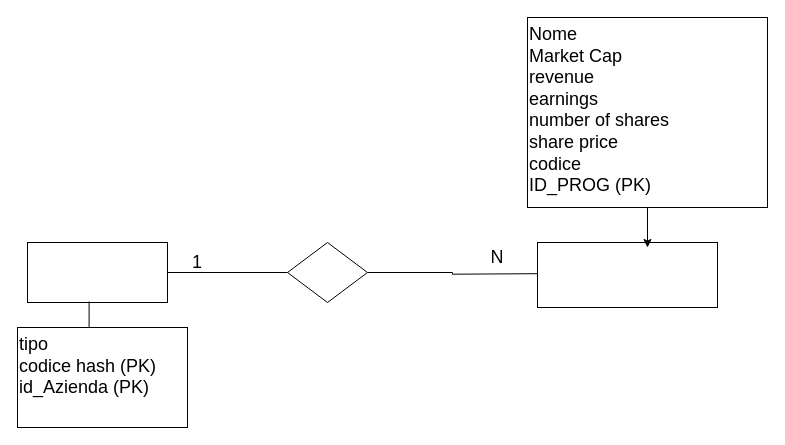
Some shapes in this 785 by 445 pixel diagram are drawn without their labels. The shapes that lost their labels are listed below. From the top down, each one's centre as x and y in pixels, then its label:
At point (97, 272): "Categoria".
At point (627, 275): "Azienda".
